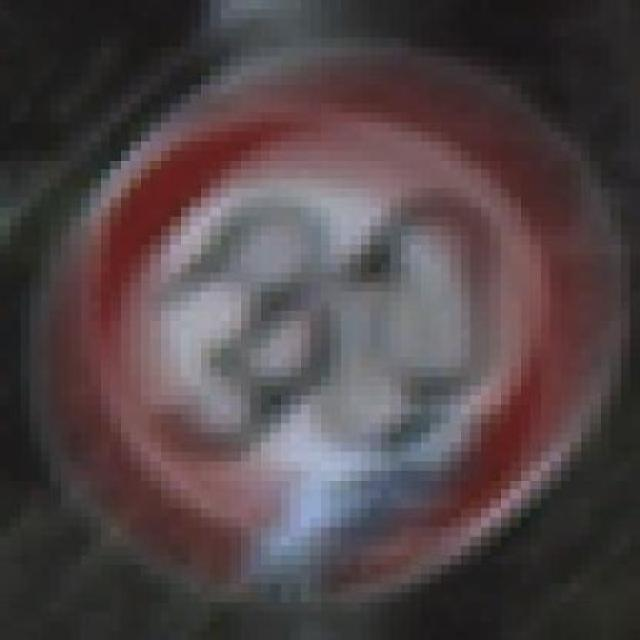Speed Limit 30 KMPh: (10, 38, 630, 612)
